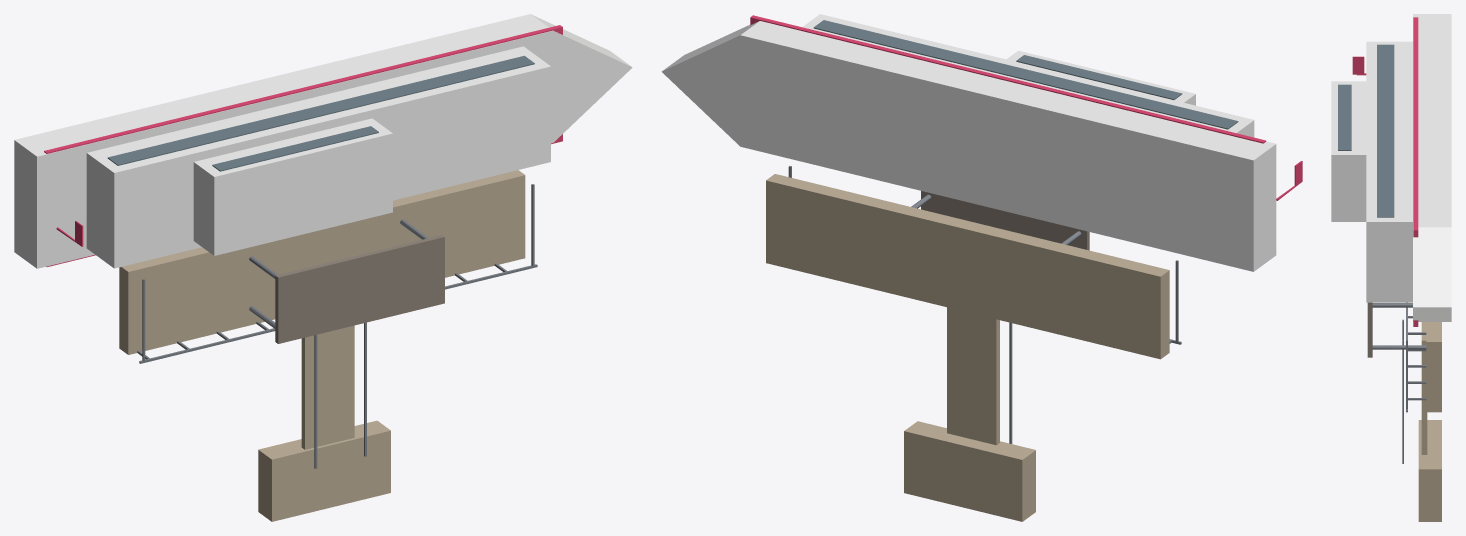
File: r-12-bystrc-ferry-pier-with-steamer.glb
3 renders of one model, left to right at view 1: azimuth 30°, elevation 25°; view 2: azimuth 150°, elevation 25°; view 3: azimuth 270°, elevation 25°, orthographic. The views are drawn at different scales.
Parts seen in each view (by area): view 1: boat-hull, pontoon-deck, shelter-roof, boat-windows, pontoon-railings-and-posts, boat-stripe-flag; view 2: boat-hull, pontoon-deck, boat-windows, shelter-roof, boat-stripe-flag, pontoon-railings-and-posts; view 3: boat-hull, pontoon-deck, boat-windows, boat-stripe-flag, pontoon-railings-and-posts, shelter-roof.
Part boxes in pixels (x1,y1,x2,y2): boat-hull: [14, 14, 632, 268]; pontoon-deck: [119, 170, 525, 521]; shelter-roof: [275, 235, 444, 343]; boat-windows: [107, 55, 534, 171]; pontoon-railings-and-posts: [137, 184, 537, 468]; boat-stripe-flag: [44, 25, 562, 266]; boat-hull: [661, 14, 1276, 271]; pontoon-deck: [766, 174, 1169, 521]; boat-windows: [813, 20, 1238, 129]; shelter-roof: [921, 191, 1089, 250]; boat-stripe-flag: [750, 15, 1302, 200]; pontoon-railings-and-posts: [788, 166, 1181, 443]; boat-hull: [1331, 14, 1451, 321]; pontoon-deck: [1418, 322, 1441, 521]; boat-windows: [1338, 44, 1394, 217]; boat-stripe-flag: [1352, 17, 1418, 326]; pontoon-railings-and-posts: [1372, 302, 1426, 463]; shelter-roof: [1367, 302, 1372, 357].
Size of the model in its own units: 30000 by 20550 by 6200.
